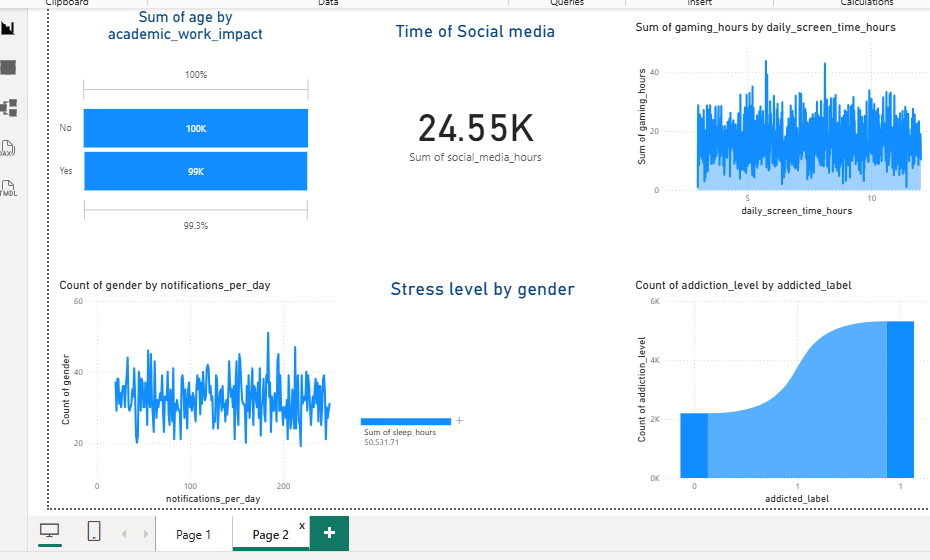

This screenshot's page, from the dashboard's own definition file:
{"tool":"powerbi","page":{"name":"Page 2","canvas":[1280,720],"ordinal":1},"visuals":[{"type":"funnel","fields":{"Category":["Smartphone_Usage_And_Addiction_Analysis_7500_Rows.academic_work_impact"],"Y":["Sum(Smartphone_Usage_And_Addiction_Analysis_7500_Rows.age)"]},"box":[10.1,0,373,360],"z":0},{"type":"card","title":"Time of Social media","fields":{"Values":["Sum(Smartphone_Usage_And_Addiction_Analysis_7500_Rows.social_media_hours)"]},"box":[398.9,17.3,430.6,288],"z":1},{"type":"lineChart","fields":{"Category":["Smartphone_Usage_And_Addiction_Analysis_7500_Rows.notifications_per_day"],"Y":["CountNonNull(Smartphone_Usage_And_Addiction_Analysis_7500_Rows.gender)"]},"box":[10.1,388.8,409,331.2],"z":2},{"type":"decompositionTreeVisual","title":"Stress level by gender","fields":{"Analyze":["Sum(Smartphone_Usage_And_Addiction_Analysis_7500_Rows.sleep_hours)"],"ExplainBy":["Smartphone_Usage_And_Addiction_Analysis_7500_Rows.stress_level"]},"box":[419,389,411,331],"z":3},{"type":"stackedAreaChart","fields":{"Category":["Smartphone_Usage_And_Addiction_Analysis_7500_Rows.daily_screen_time_hours"],"Y":["Sum(Smartphone_Usage_And_Addiction_Analysis_7500_Rows.gaming_hours)"]},"box":[840,17,431,288],"z":4},{"type":"ribbonChart","fields":{"Category":["Smartphone_Usage_And_Addiction_Analysis_7500_Rows.addicted_label"],"Y":["CountNonNull(Smartphone_Usage_And_Addiction_Analysis_7500_Rows.addiction_level)"]},"box":[840,389,431,331],"z":5}]}

Visuals, with their boxes on the page's 1280x720 design canvas (x1, y1, x2, y2). These are canvas units, not pixel positions in the 930x560 screenshot, which may show the page scaled, cropped or inside an application window:
funnel - Smartphone_Usage_And_Addiction_Analysis_7500_Rows.academic_work_impact x Sum(Smartphone_Usage_And_Addiction_Analysis_7500_Rows.age): bbox=[10, 0, 383, 360]
"Time of Social media" card: bbox=[399, 17, 830, 305]
lineChart - Smartphone_Usage_And_Addiction_Analysis_7500_Rows.notifications_per_day x CountNonNull(Smartphone_Usage_And_Addiction_Analysis_7500_Rows.gender): bbox=[10, 389, 419, 720]
"Stress level by gender" decompositionTreeVisual: bbox=[419, 389, 830, 720]
stackedAreaChart - Smartphone_Usage_And_Addiction_Analysis_7500_Rows.daily_screen_time_hours x Sum(Smartphone_Usage_And_Addiction_Analysis_7500_Rows.gaming_hours): bbox=[840, 17, 1271, 305]
ribbonChart - Smartphone_Usage_And_Addiction_Analysis_7500_Rows.addicted_label x CountNonNull(Smartphone_Usage_And_Addiction_Analysis_7500_Rows.addiction_level): bbox=[840, 389, 1271, 720]
